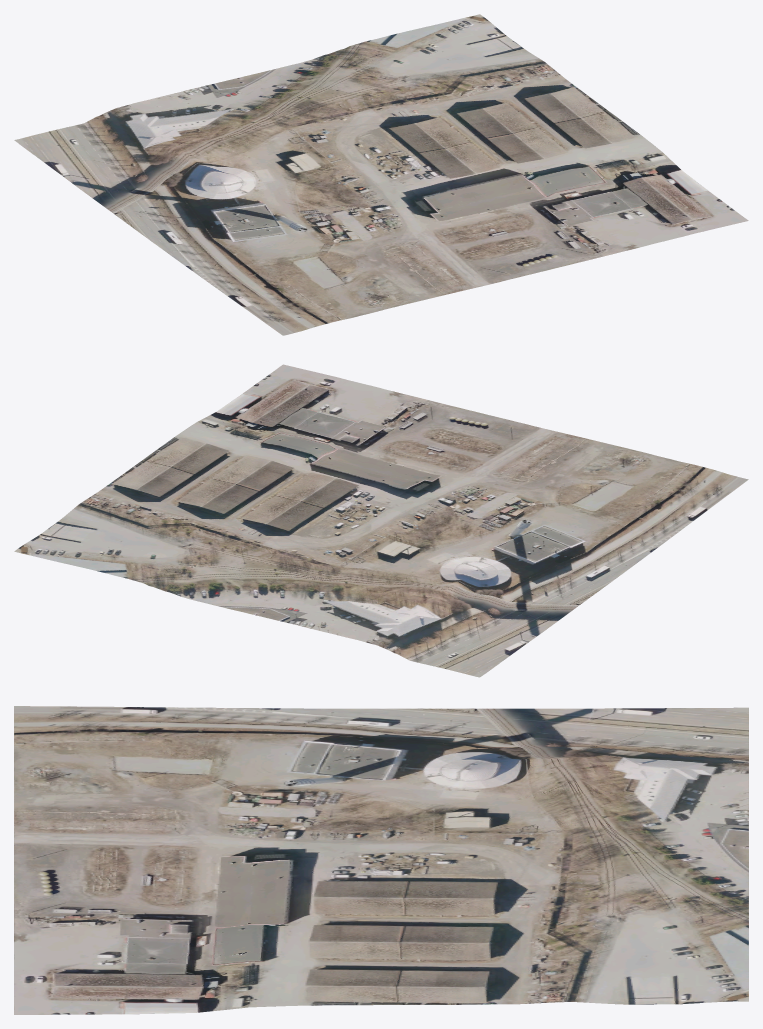
File: CM_Terrain_24488001_6818770.fbx
3 views of the same model, one above another, from view 1: azimuth 30°, elevation 25°; view 2: azimuth 150°, elevation 25°; view 3: azimuth 270°, elevation 25° (orthographic). The views are drawn at different scales.
Visible parts, largest first — view 1: CM_Terrain_24488001_6818770_LOD0; view 2: CM_Terrain_24488001_6818770_LOD0; view 3: CM_Terrain_24488001_6818770_LOD0.
Boxes of the visible parts, x1,y1,x2,y2 form: CM_Terrain_24488001_6818770_LOD0: (14,14,748,335); CM_Terrain_24488001_6818770_LOD0: (14,364,748,677); CM_Terrain_24488001_6818770_LOD0: (14,706,748,1014).
Size of what is drawn, in the model's own units: 205 by 6.53 by 205.
